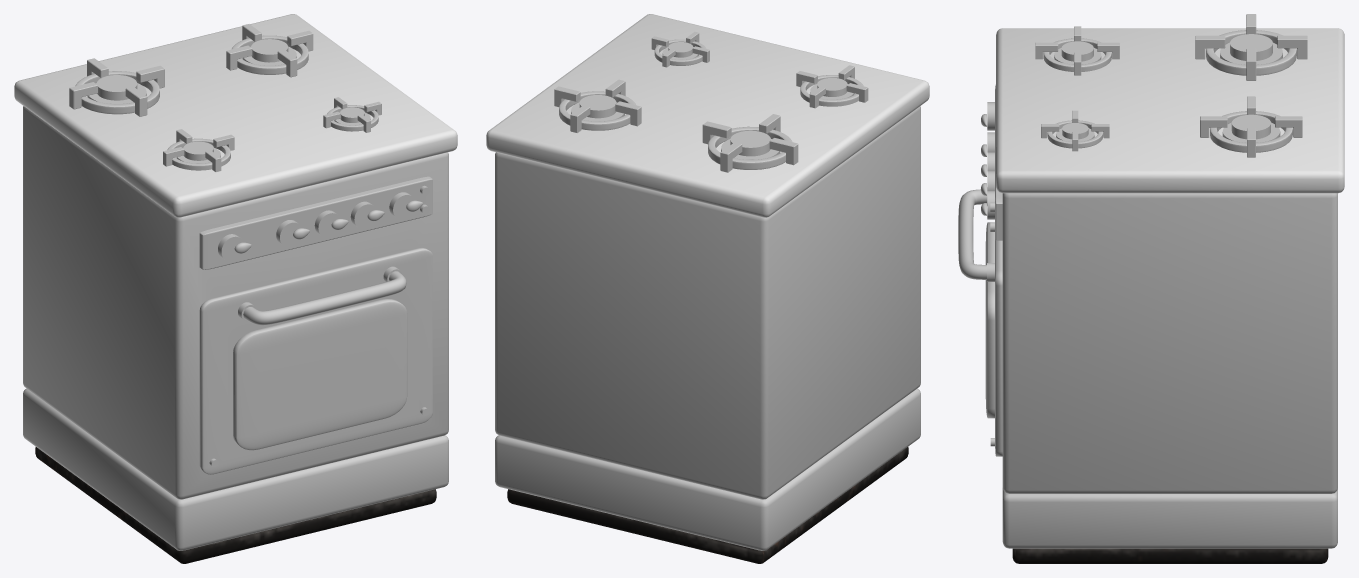
Rendered from Oven.fbx.
The picture shows the model from 3 angles, left to right: view 1: azimuth 30°, elevation 25°; view 2: azimuth 150°, elevation 25°; view 3: azimuth 270°, elevation 25°; orthographic projection. The views are drawn at different scales.
Parts seen in each view (by area): view 1: Cube, Cube.003, Cube.001, Cube.012, Cube.004, Circle.004, Cube.005, Cube.002, NurbsPath; view 2: Cube, Cube.003, Cube.001, Circle.004, Cube.002; view 3: Cube, Cube.003, Cube.001, Circle.004, Cube.002, Cube.004, Cube.012, NurbsPath, Cube.005.
Boxes of the visible parts, <box> form: Cube: <box>23,106,448,499</box>; Cube.003: <box>14,14,457,217</box>; Cube.001: <box>23,388,448,550</box>; Cube.012: <box>233,299,407,450</box>; Cube.004: <box>199,247,432,474</box>; Circle.004: <box>69,24,381,171</box>; Cube.005: <box>199,176,432,269</box>; Cube.002: <box>35,447,436,563</box>; NurbsPath: <box>243,271,406,325</box>; Cube: <box>495,106,920,499</box>; Cube.003: <box>486,14,929,217</box>; Cube.001: <box>495,388,920,550</box>; Circle.004: <box>554,31,868,172</box>; Cube.002: <box>507,447,908,563</box>; Cube: <box>1002,193,1337,493</box>; Cube.003: <box>996,28,1344,193</box>; Cube.001: <box>1002,488,1337,548</box>; Circle.004: <box>1035,14,1307,157</box>; Cube.002: <box>1012,548,1328,563</box>; Cube.004: <box>995,236,1002,456</box>; Cube.012: <box>985,222,994,418</box>; NurbsPath: <box>958,189,986,279</box>; Cube.005: <box>995,85,1002,240</box>.
Bounding box in the file's own units: 416 × 553 × 461.
